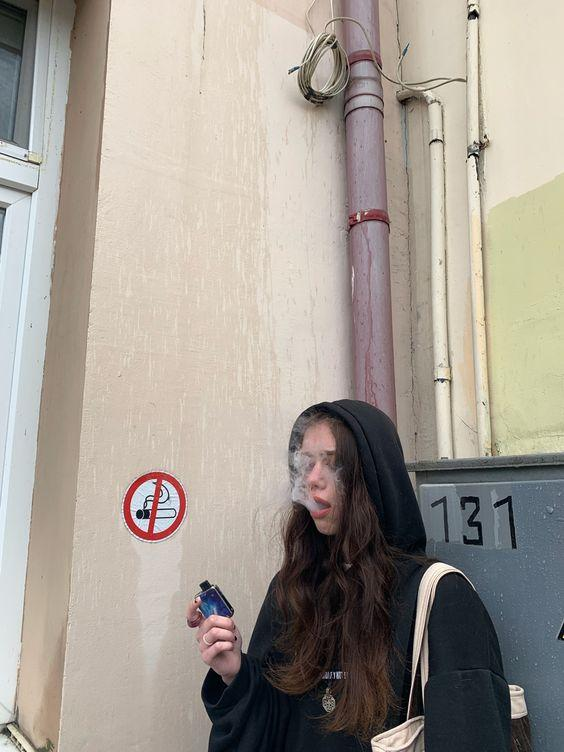Vape: (194, 580, 234, 618)
